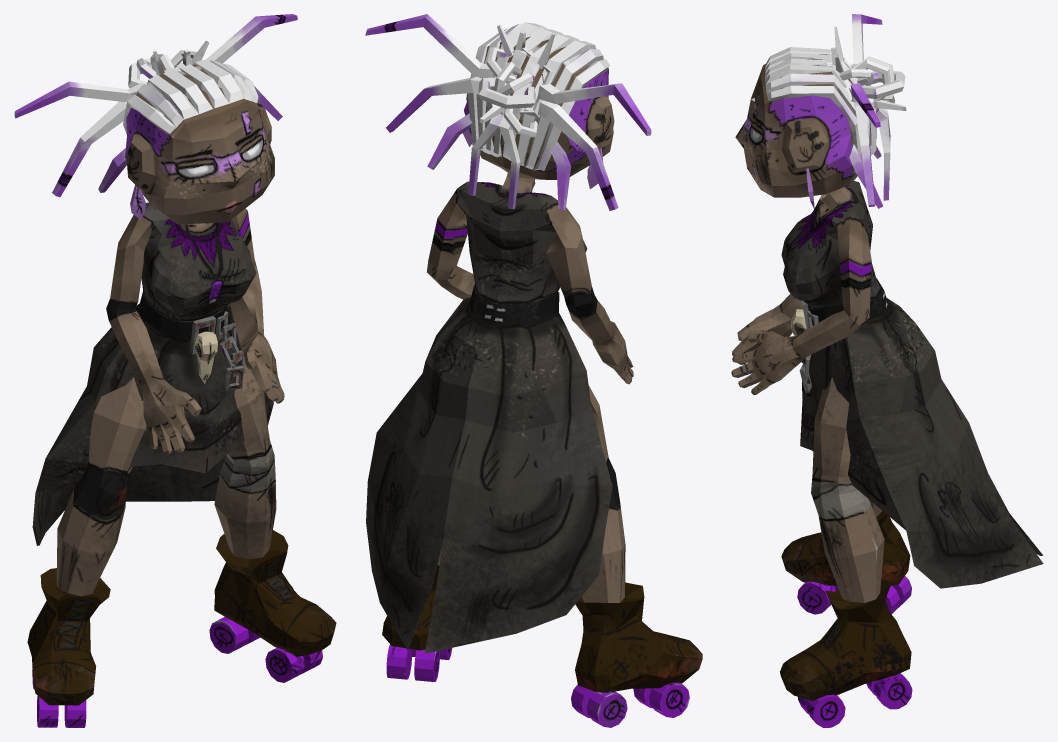
The model's file is bruja_000037.obj.
3 renders of one model, left to right at view 1: azimuth 30°, elevation 25°; view 2: azimuth 150°, elevation 25°; view 3: azimuth 270°, elevation 25°, orthographic. The views are drawn at different scales.
Parts seen in each view (by area): view 1: Bruja_Plane.001; view 2: Bruja_Plane.001; view 3: Bruja_Plane.001.
Part boxes in pixels (x1,y1,x2,y2): Bruja_Plane.001: (14,14,336,727); Bruja_Plane.001: (365,14,702,727); Bruja_Plane.001: (731,14,1043,727).
Size of the model in its own units: 7.84 by 16.43 by 7.38.
